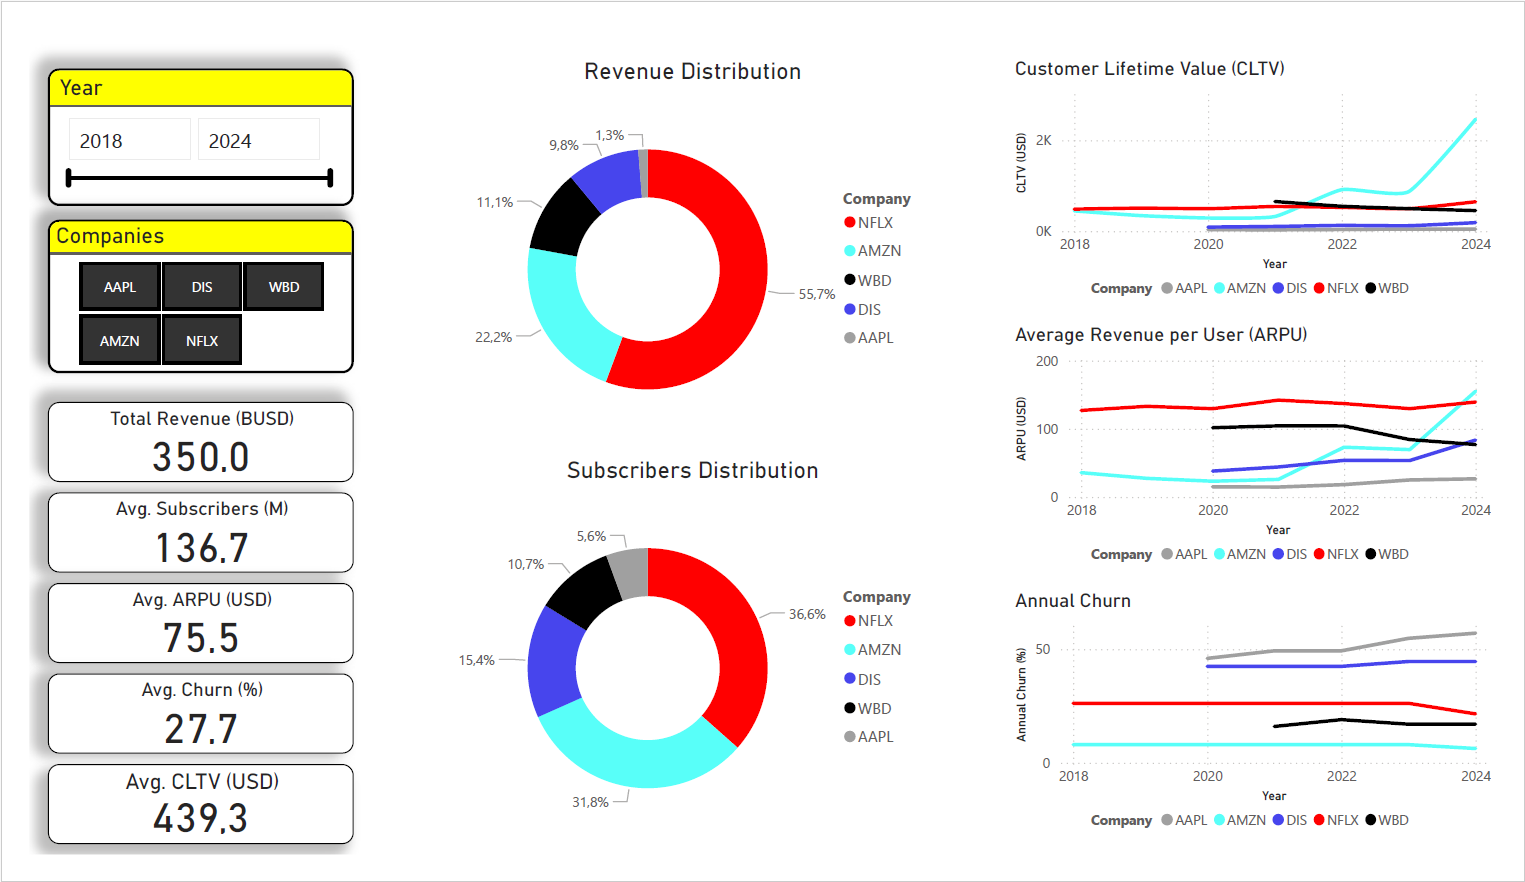

What the dashboard file says about the page in this screenshot:
{"tool":"powerbi","page":{"name":"Dashboard","canvas":[1280,720],"ordinal":1},"visuals":[{"type":"slicer","title":"Companies","fields":{"Values":["All Data.Company"]},"box":[16,166,267,134],"z":0},{"type":"slicer","title":"Year","fields":{"Values":["All Data.Year"]},"box":[16,34,267,120],"z":1000},{"type":"card","title":"Avg. Subscribers (M)","fields":{"Values":["Avg(All Data.Subscribers_M)"]},"box":[16,404,267,70],"z":2000},{"type":"card","title":"Avg. ARPU (USD)","fields":{"Values":["Avg(All Data.ARPU)"]},"box":[16,483,267,70],"z":3000},{"type":"card","title":"Avg. Churn (%)","fields":{"Values":["Avg(All Data.Annual_Churn)"]},"box":[16,562,267,70],"z":4000},{"type":"card","title":"Avg. CLTV (USD)","fields":{"Values":["Avg(All Data.CLTV)"]},"box":[16,641,267,70],"z":5000},{"type":"lineChart","title":"Customer Lifetime Value (CLTV)","fields":{"Category":["All Data.Year"],"Y":["Sum(All Data.CLTV)"],"Series":["All Data.Company"]},"box":[855,24,425,220],"z":6000},{"type":"lineChart","title":"Annual Churn","fields":{"Y":["Sum(All Data.Annual_Churn)"],"Category":["All Data.Year"],"Series":["All Data.Company"]},"box":[855,488,425,220],"z":7000},{"type":"lineChart","title":"Average Revenue per User (ARPU)","fields":{"Y":["Sum(All Data.ARPU)"],"Category":["All Data.Year"],"Series":["All Data.Company"]},"box":[855,256,425,220],"z":8000},{"type":"donutChart","title":"Revenue Distribution","fields":{"Category":["All Data.Company"],"Y":["Sum(All Data.Revenue_B_USD)"]},"box":[364,24,430,348],"z":9000},{"type":"donutChart","title":"Subscribers Distribution","fields":{"Category":["All Data.Company"],"Y":["Sum(All Data.Subscribers_M)"]},"box":[364,372,430,348],"z":10000},{"type":"card","title":"Total Revenue (BUSD)","fields":{"Values":["Sum(All Data.Revenue_B_USD)"]},"box":[16,325,267,70],"z":11000}]}

Visuals, with their boxes in screenshot pixels (x1, y1, x2, y2), scaled from the page's 1280x720 canvas onto the 1525x882 screenshot:
"Companies" slicer: (x1=19, y1=203, x2=337, y2=368)
"Year" slicer: (x1=19, y1=42, x2=337, y2=189)
"Avg. Subscribers (M)" card: (x1=19, y1=495, x2=337, y2=581)
"Avg. ARPU (USD)" card: (x1=19, y1=592, x2=337, y2=677)
"Avg. Churn (%)" card: (x1=19, y1=688, x2=337, y2=774)
"Avg. CLTV (USD)" card: (x1=19, y1=785, x2=337, y2=871)
"Customer Lifetime Value (CLTV)" lineChart: (x1=1019, y1=29, x2=1524, y2=299)
"Annual Churn" lineChart: (x1=1019, y1=598, x2=1524, y2=867)
"Average Revenue per User (ARPU)" lineChart: (x1=1019, y1=314, x2=1524, y2=583)
"Revenue Distribution" donutChart: (x1=434, y1=29, x2=946, y2=456)
"Subscribers Distribution" donutChart: (x1=434, y1=456, x2=946, y2=881)
"Total Revenue (BUSD)" card: (x1=19, y1=398, x2=337, y2=484)
